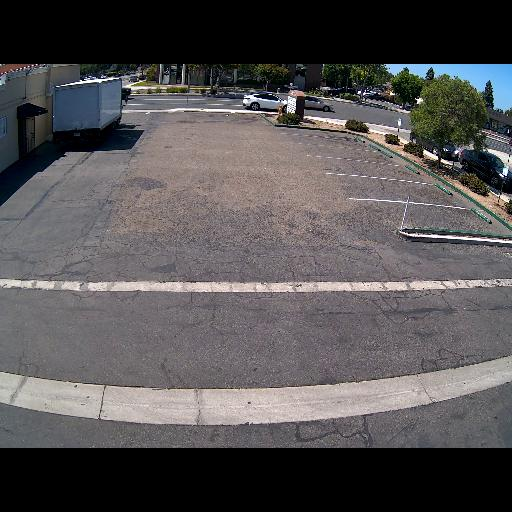car: (50, 76, 129, 146), (455, 146, 512, 195), (407, 123, 460, 162), (242, 92, 293, 112), (298, 94, 335, 112), (327, 87, 356, 98), (119, 85, 134, 100), (365, 93, 386, 102), (127, 74, 139, 82)
